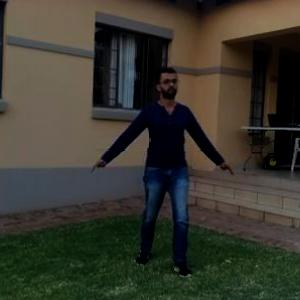land: (96, 74, 225, 260)
